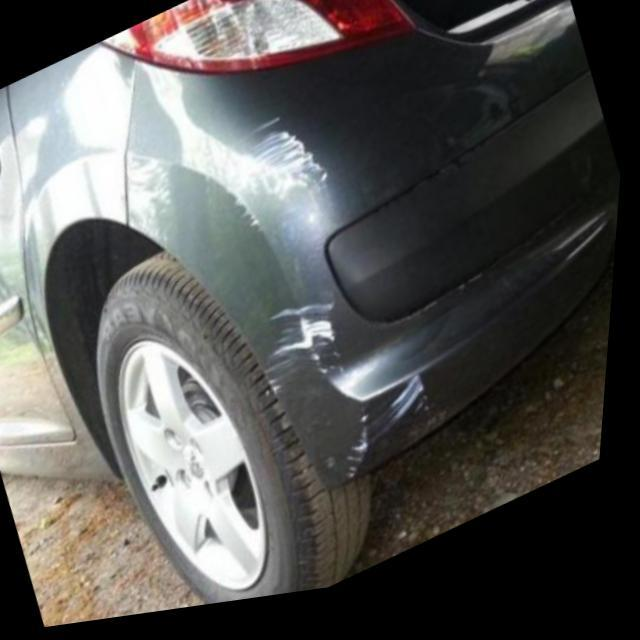rub: (350, 386, 428, 496), (237, 131, 329, 202), (276, 313, 346, 402), (547, 219, 619, 289)
